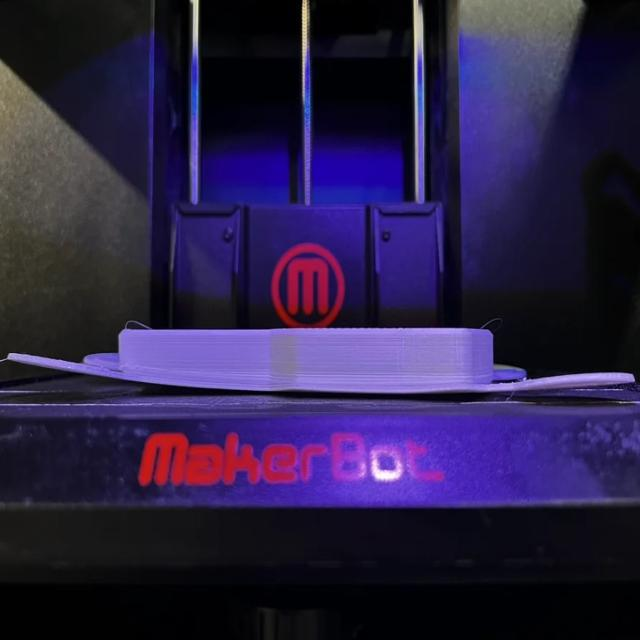Warping: (22, 351, 201, 396)
